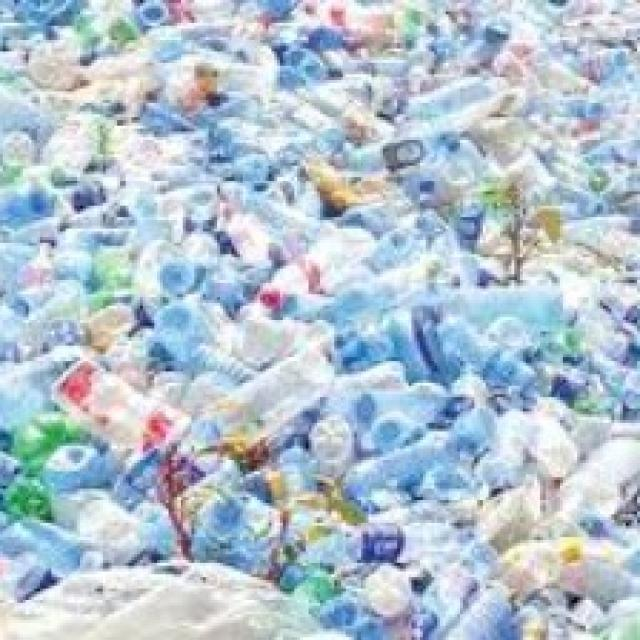heap: (19, 52, 640, 640)
